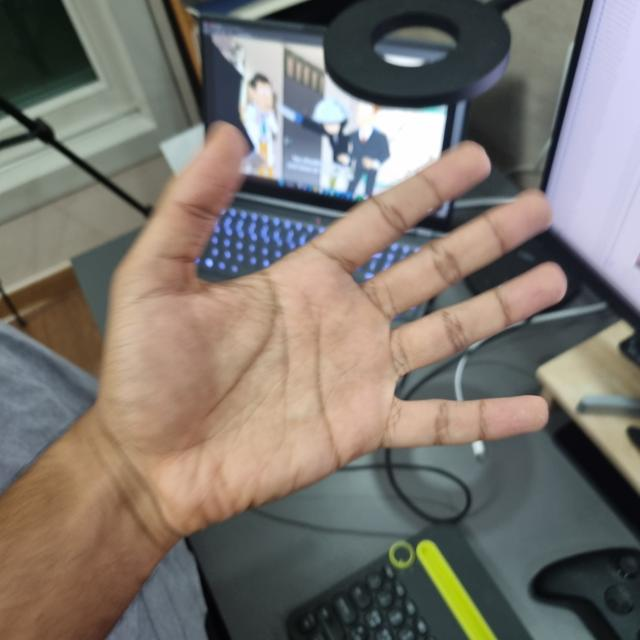Paper: (85, 125, 560, 534)
